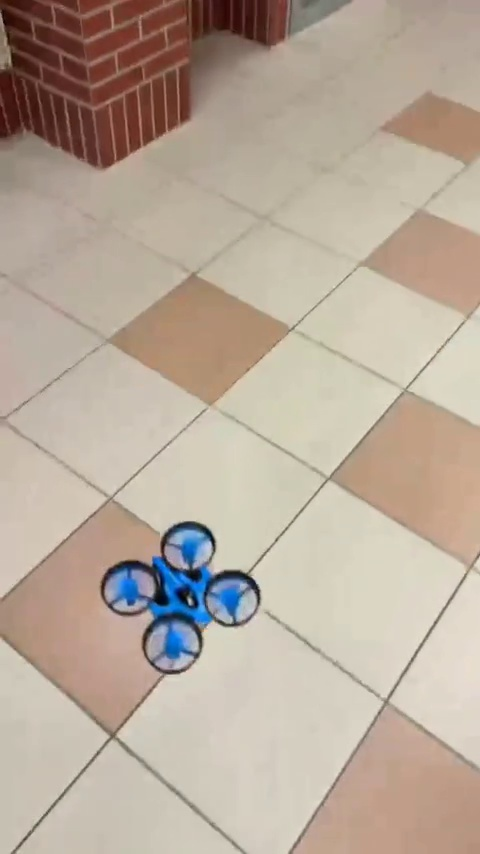drone: (95, 523, 264, 674)
